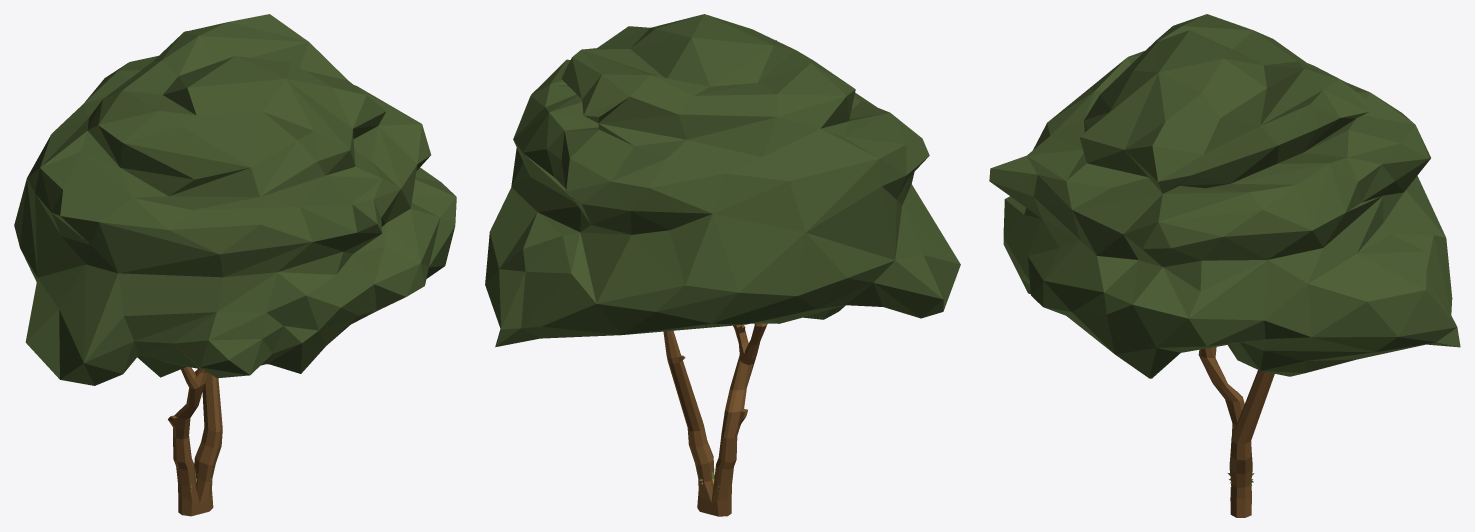
The model's file is delh_foli_06.fbx.
3 views of the same model, side by side, from view 1: azimuth 30°, elevation 25°; view 2: azimuth 150°, elevation 25°; view 3: azimuth 270°, elevation 25° (orthographic). The views are drawn at different scales.
Parts seen in each view (by area): view 1: delh_foli_06; view 2: delh_foli_06; view 3: delh_foli_06.
Boxes of the visible parts, <box> form: delh_foli_06: <box>14,14,456,516</box>; delh_foli_06: <box>485,14,960,516</box>; delh_foli_06: <box>989,14,1460,517</box>.
Bounding box in the file's own units: 603 × 625 × 570.
